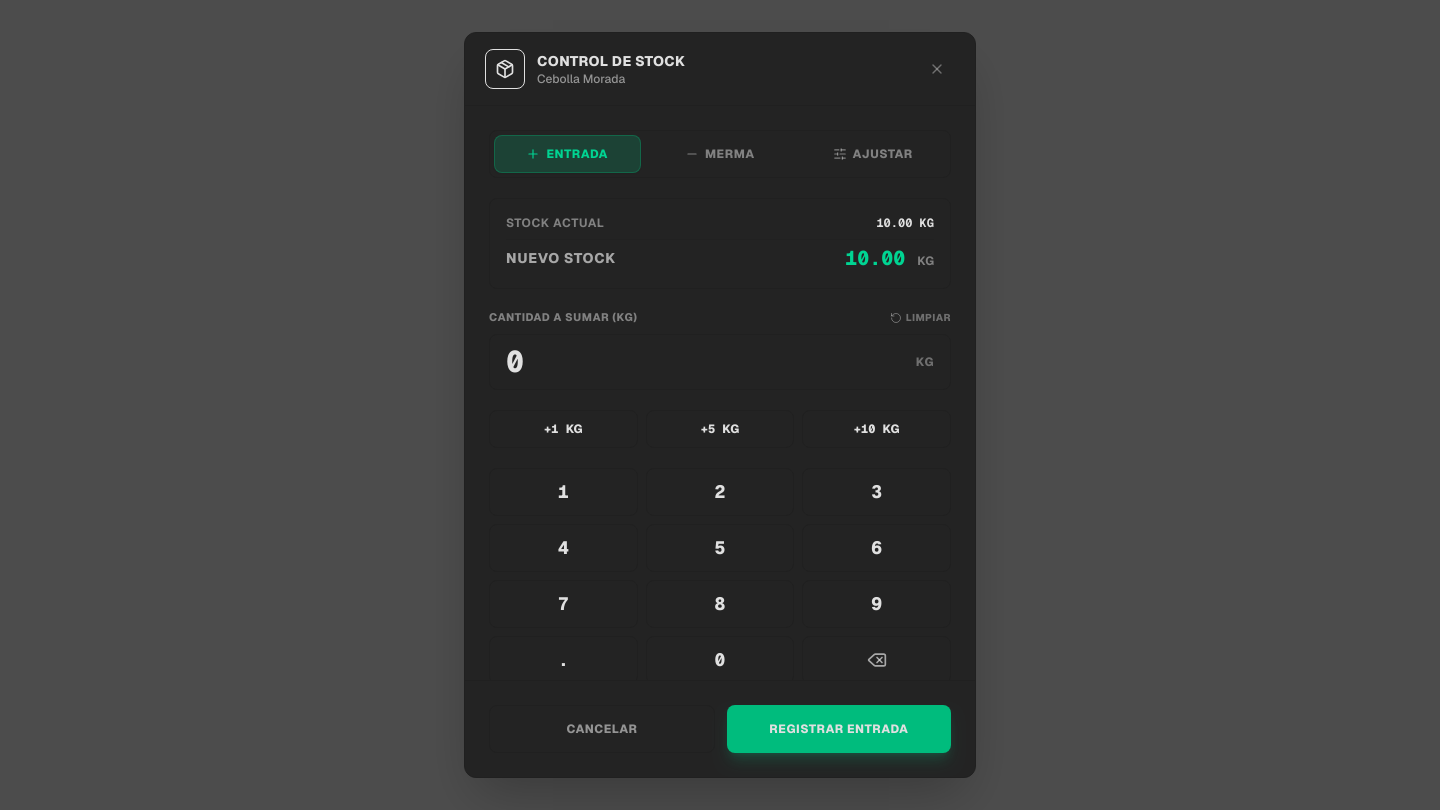
Test: InventoryActionDrawer Component › should show validation error when submitting 0 on ENTRADA or MERMA
The image size is (1440, 810).
Note: Click submit with 0
Click the button "Registrar Entrada" at (839, 729), box x1=727 y1=705 x2=951 y2=753
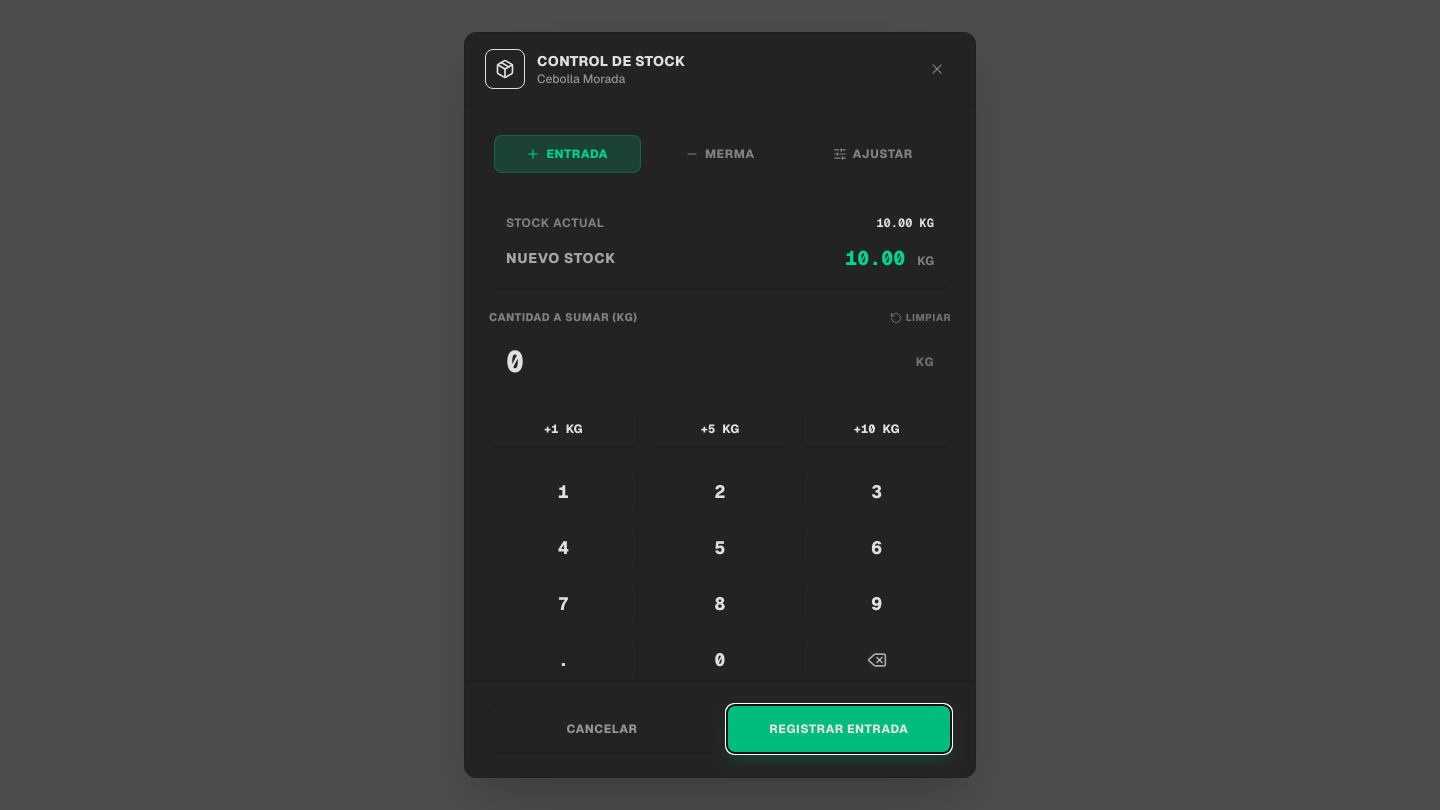
Note: Switch to MERMA
Click the button "Merma" at (720, 154), box x1=647 y1=135 x2=793 y2=173
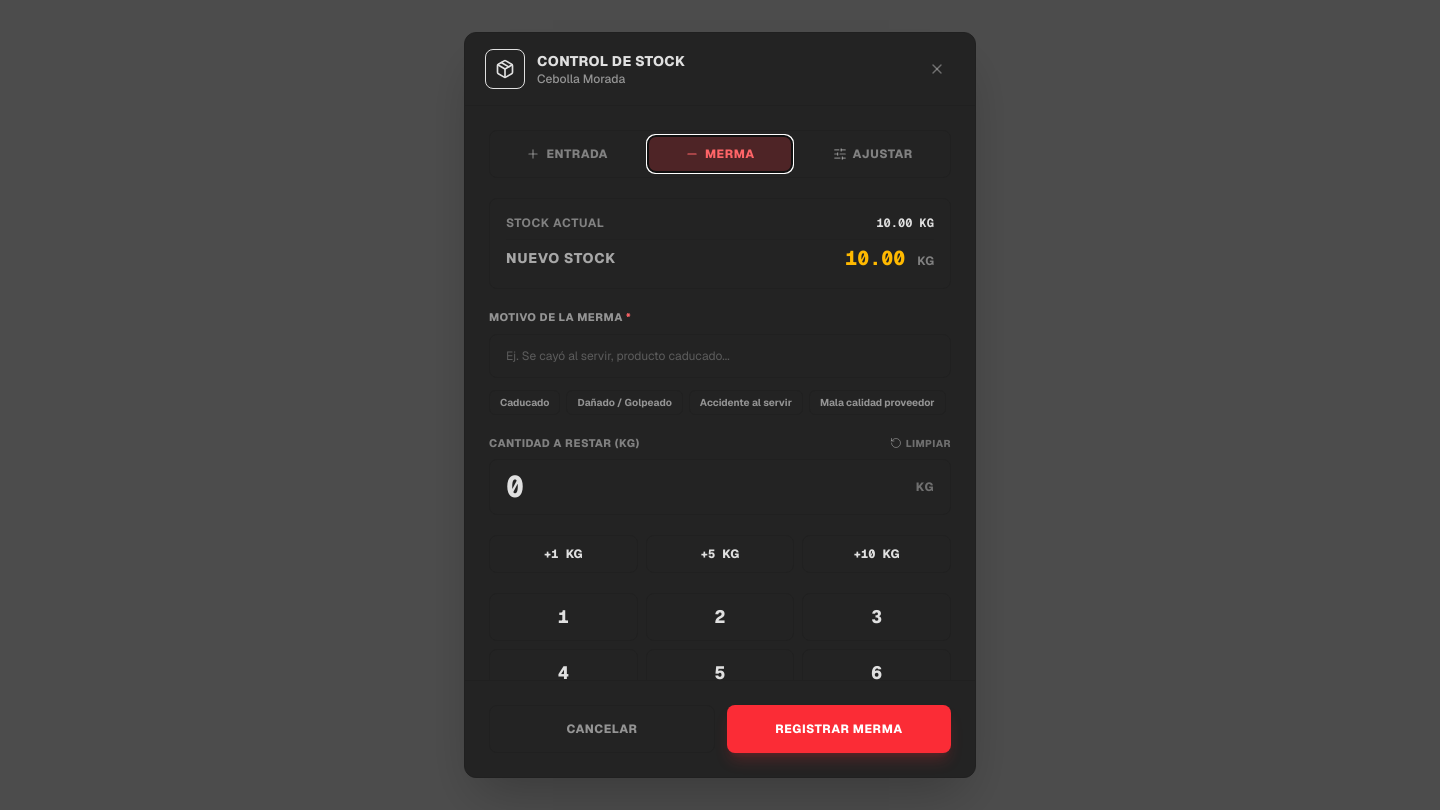
Click the button "Registrar Merma" at (839, 729), box x1=727 y1=705 x2=951 y2=753
(page scrolled)
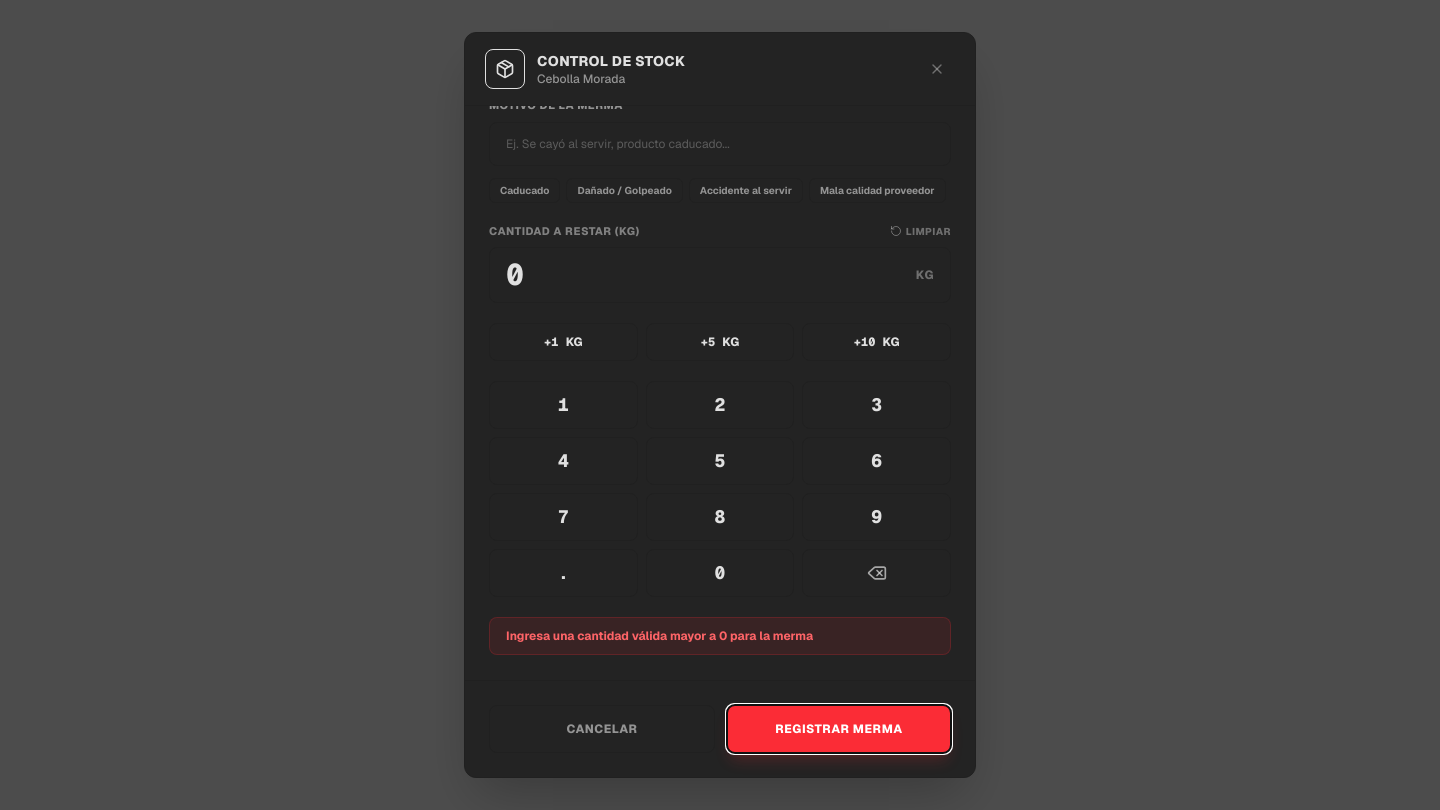
Now the text "Ingresa una cantidad válida mayor a 0 para la merma" is shown, box x1=489 y1=617 x2=951 y2=655
